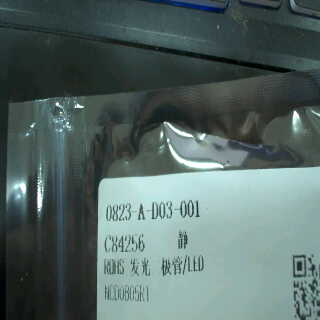LED: (126, 256, 207, 280)
